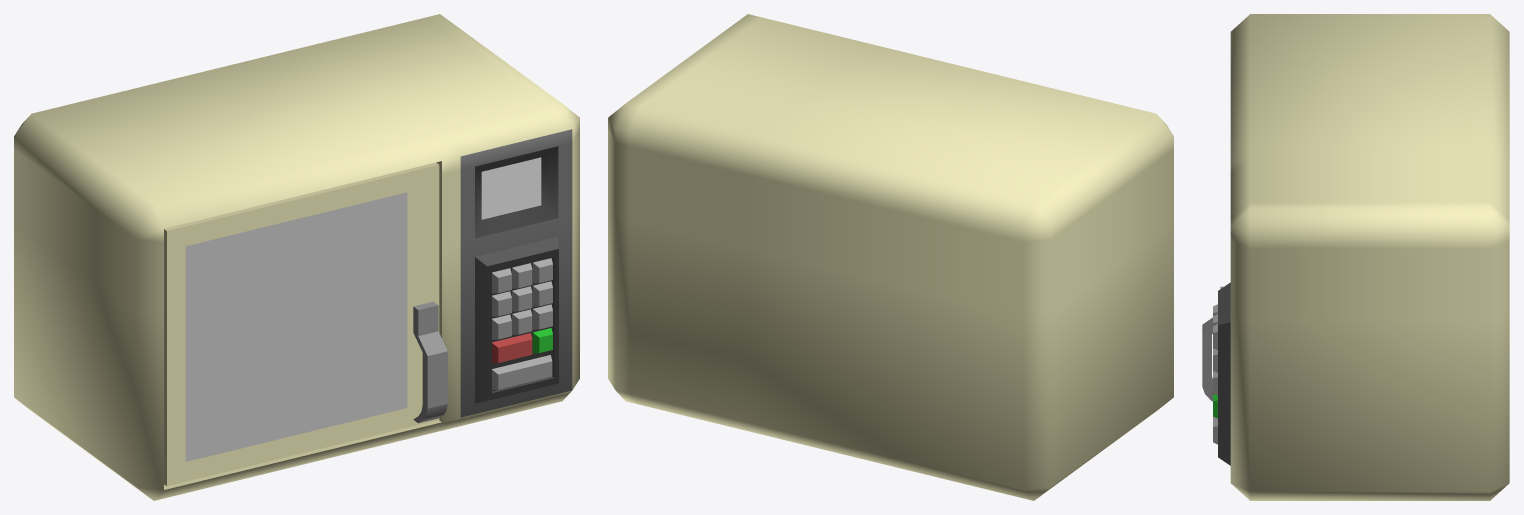
File: microwave.fbx
3 renders of one model, left to right at view 1: azimuth 30°, elevation 25°; view 2: azimuth 150°, elevation 25°; view 3: azimuth 270°, elevation 25°, orthographic. The views are drawn at different scales.
Visible parts, largest first — view 1: Microwave, Microwave_Door; view 2: Microwave; view 3: Microwave, Microwave_Door.
Part boxes in pixels (box(x1,y1,x2,y2)): Microwave: box(14, 14, 579, 500); Microwave_Door: box(164, 162, 447, 486); Microwave: box(608, 14, 1173, 500); Microwave: box(1213, 14, 1509, 500); Microwave_Door: box(1202, 286, 1223, 401).
Bounding box in the file's own units: 0.7628 × 0.4895 × 0.4678.
